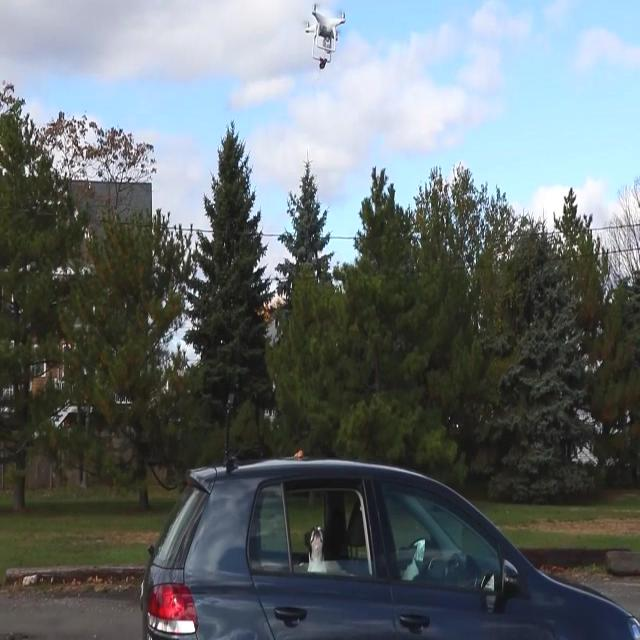drone: (302, 2, 348, 72)
